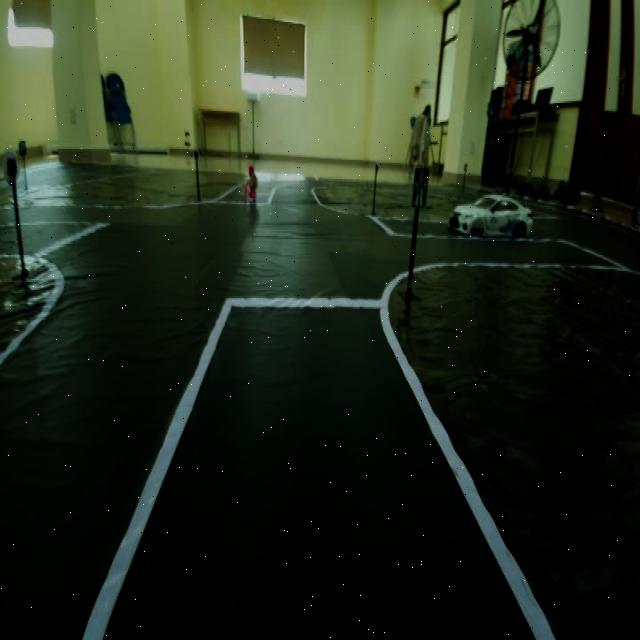highway_exit: (408, 162, 430, 213)
